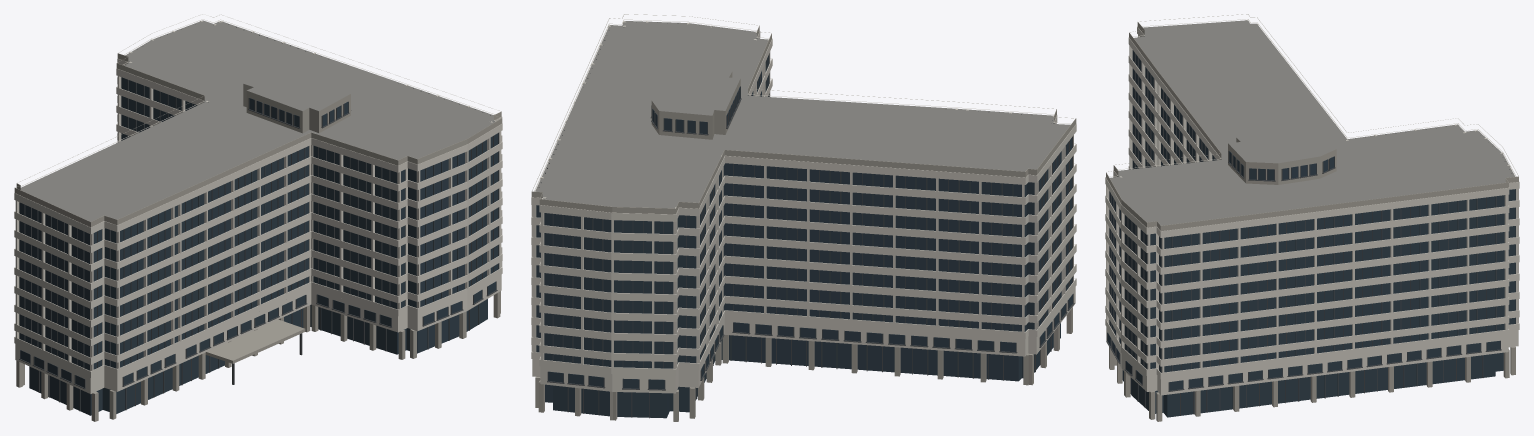
The model's file is royal_garden_hotel.glb.
3 views of the same model, side by side, from view 1: azimuth 30°, elevation 25°; view 2: azimuth 150°, elevation 25°; view 3: azimuth 270°, elevation 25° (orthographic). The views are drawn at different scales.
Size of the model in its own units: 74.62 by 35.32 by 61.27.
